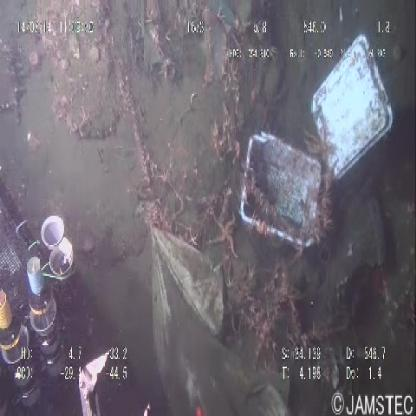Rov: (1, 140, 158, 416)
Rác: (233, 20, 394, 268)
